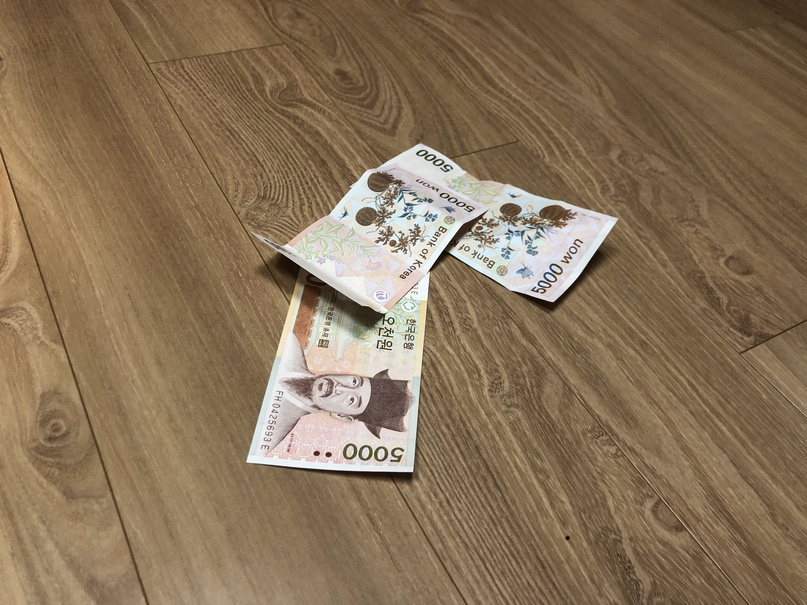5000won: (249, 162, 490, 314)
